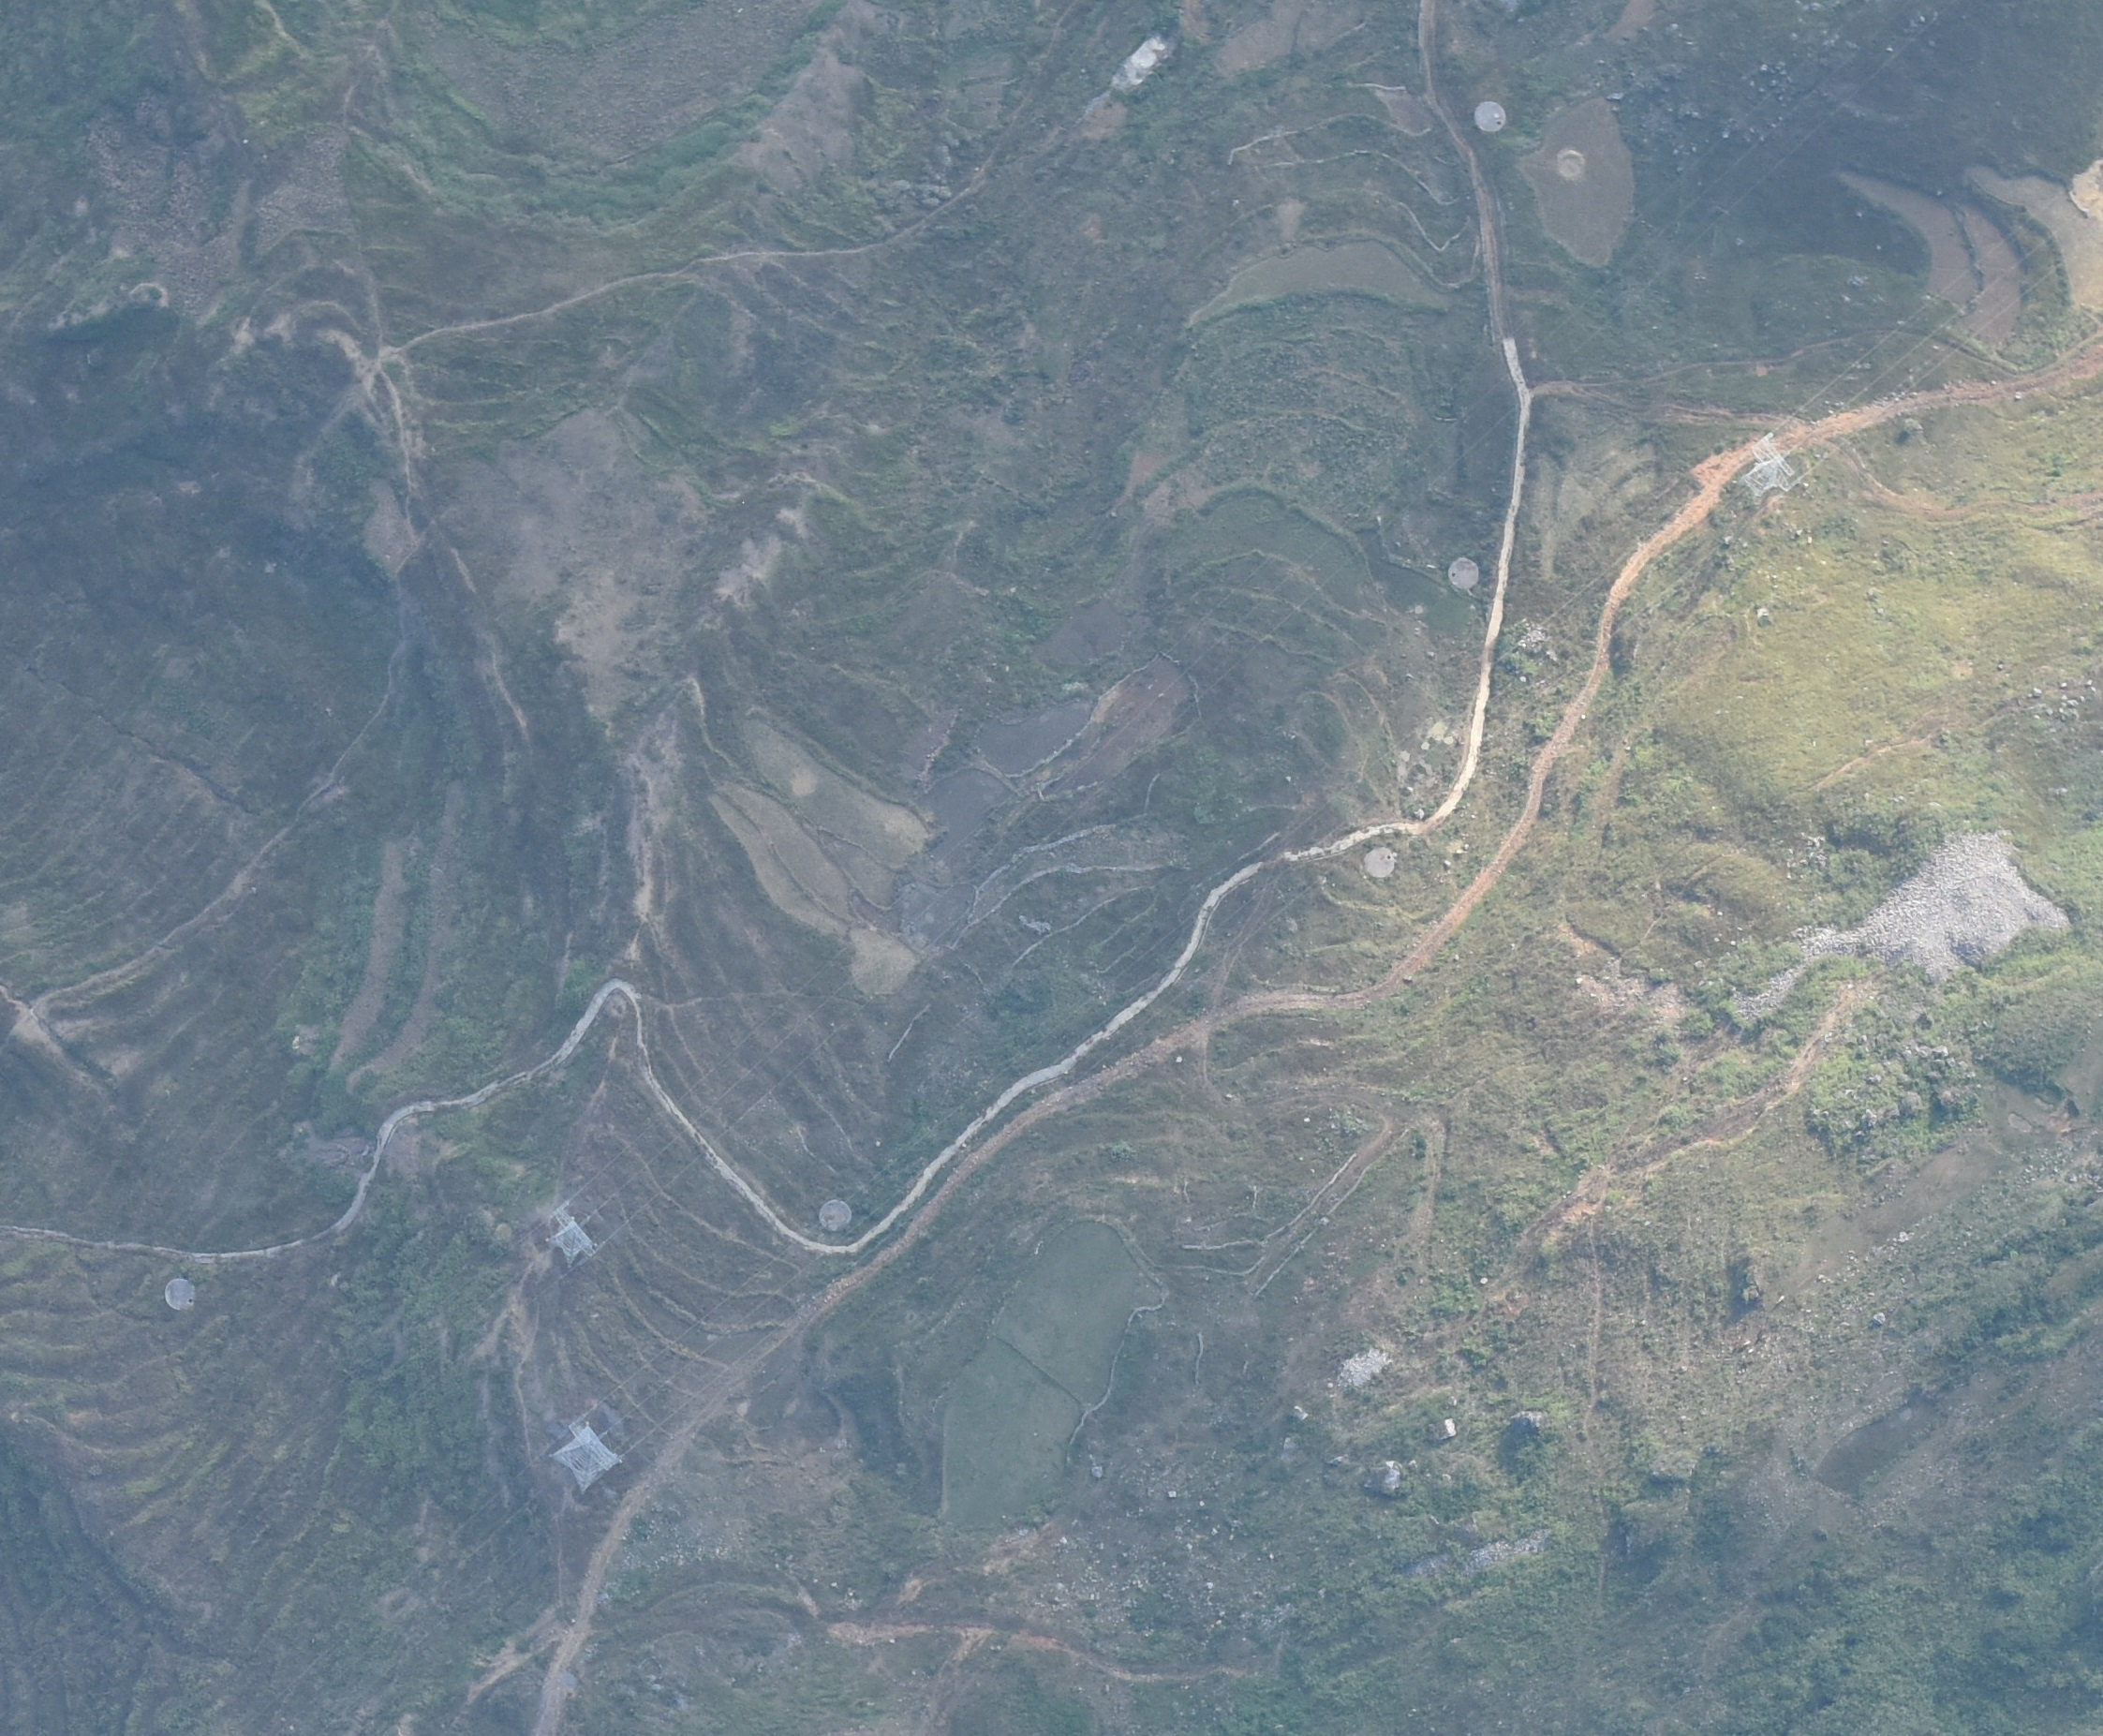cable-tower: (550, 1413, 624, 1493), (1738, 435, 1799, 503), (547, 1202, 597, 1268)
quarry: (1743, 833, 2072, 1013)
well: (164, 1277, 199, 1313), (1364, 844, 1396, 878), (1445, 557, 1479, 589), (1474, 100, 1506, 133), (817, 1200, 851, 1230)
